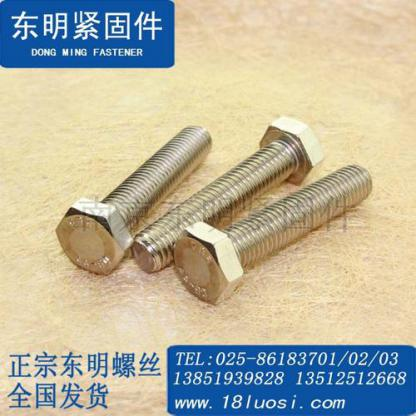FOD: (126, 112, 327, 276), (172, 161, 375, 306), (56, 125, 211, 275)
